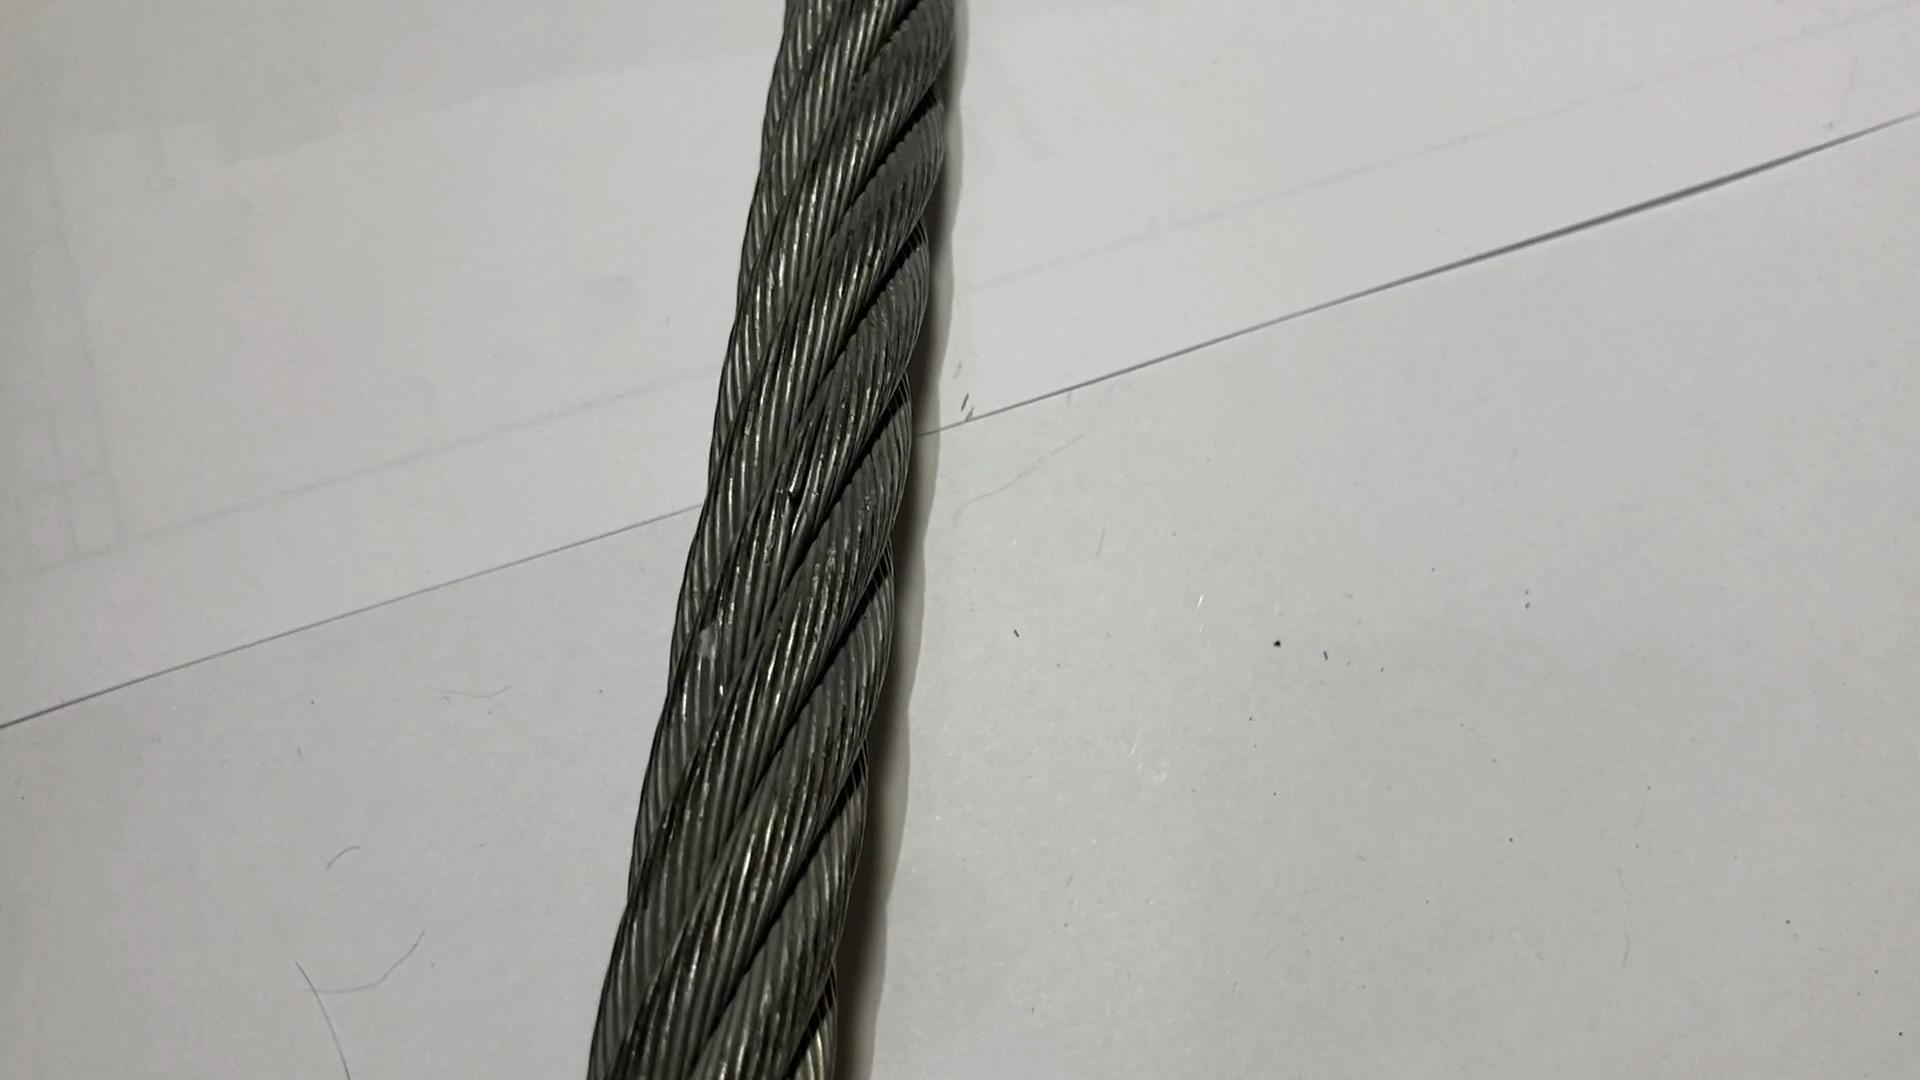break: (770, 469, 810, 516)
